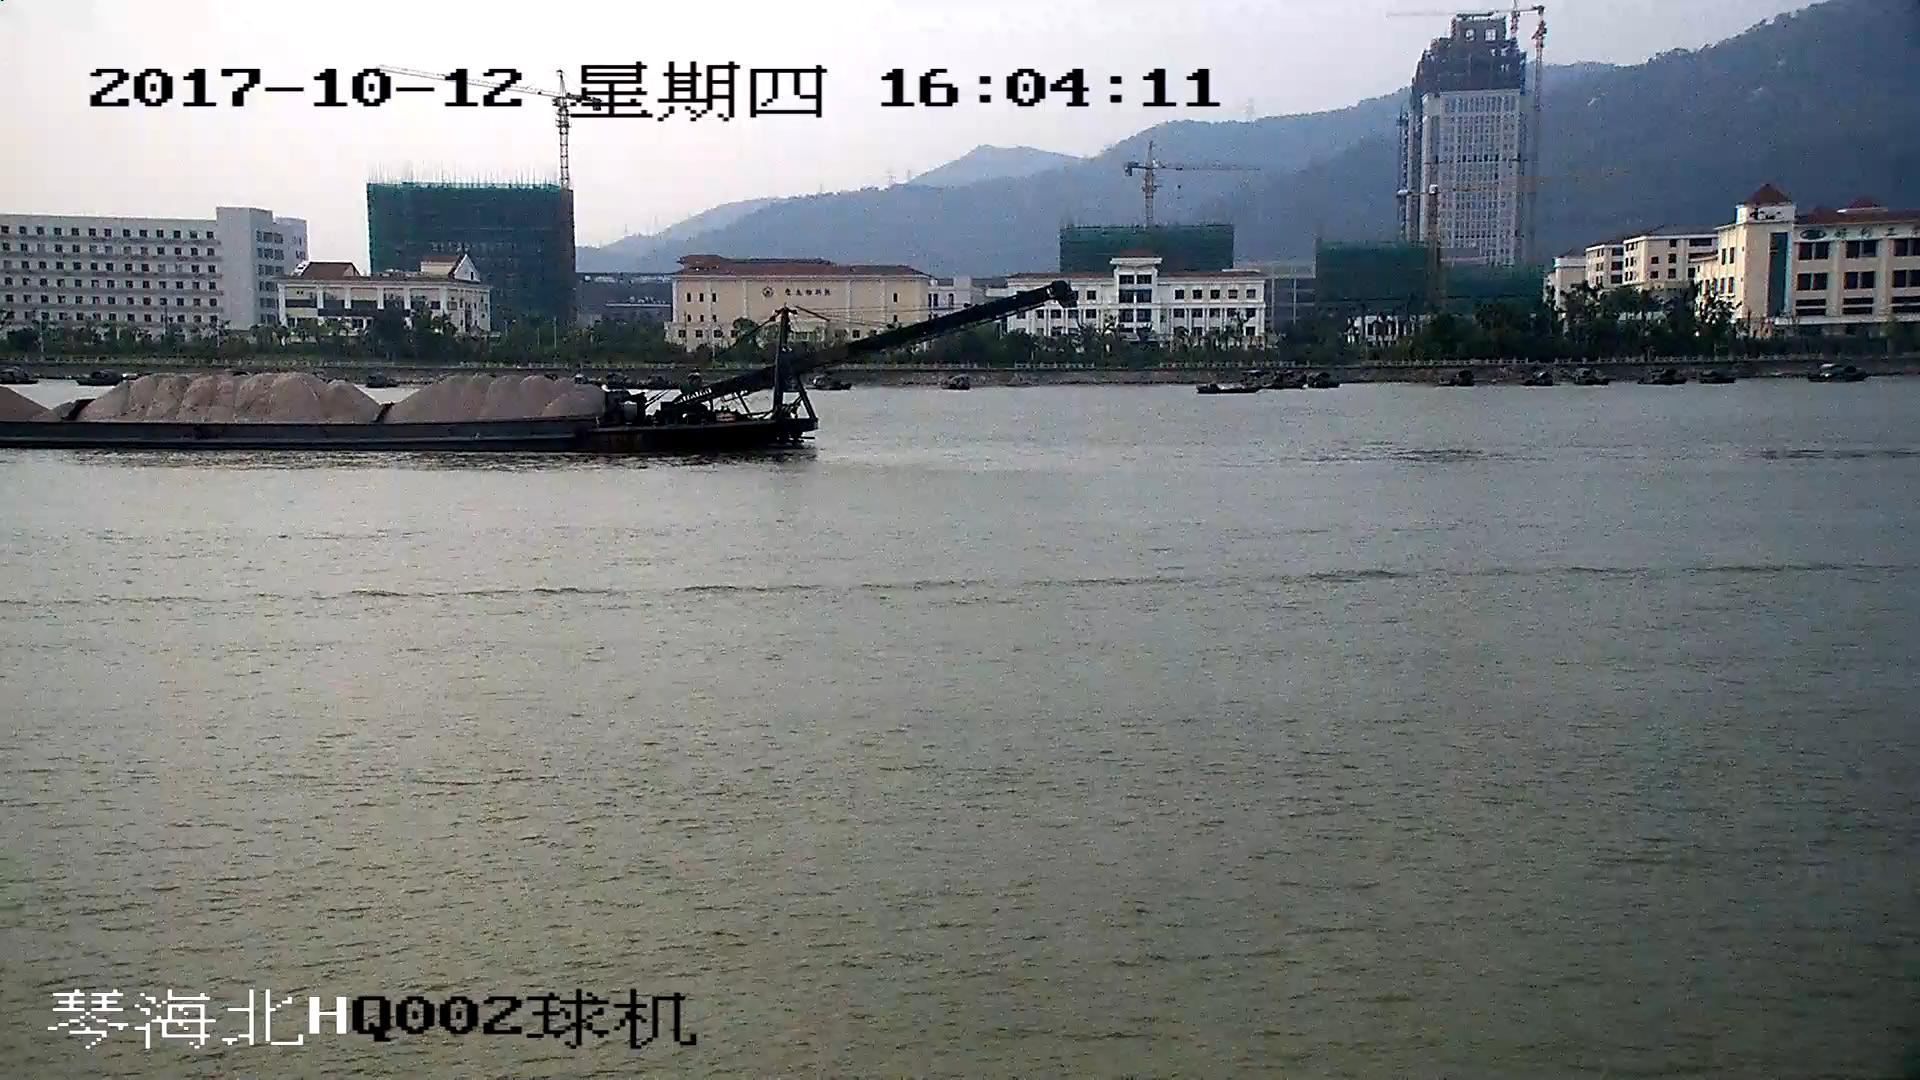ore carrier: (1, 283, 1067, 453)
